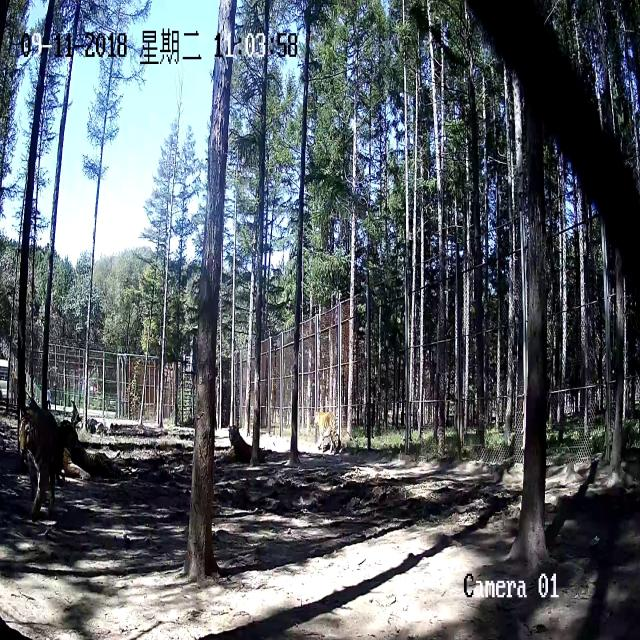Tiger: (15, 400, 63, 511), (212, 421, 264, 471), (62, 418, 89, 485), (307, 402, 340, 453), (95, 446, 136, 484)
